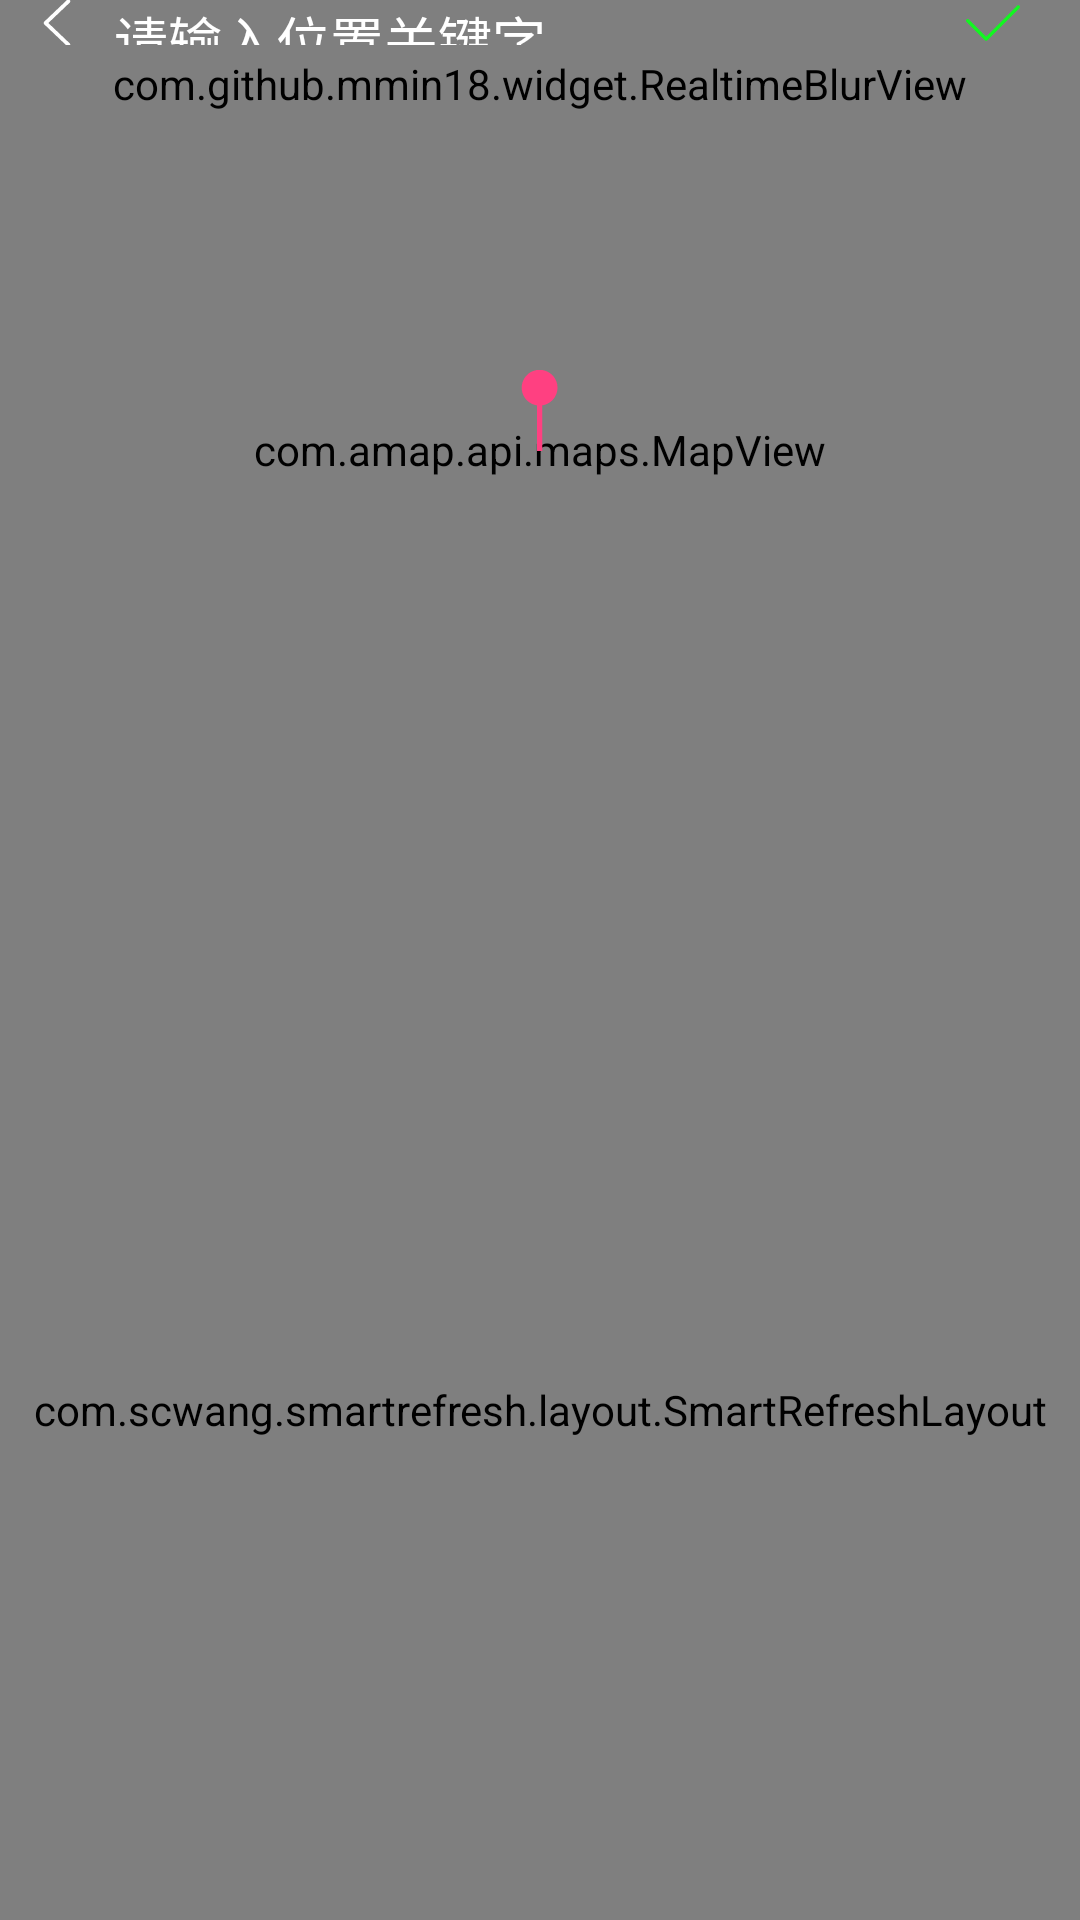

Named icons in this screenshot (1080px×1920px) and their bounding boxes, bbox=[x1, y1, x2, y2]:
loc center: bbox=[499, 370, 580, 451]
